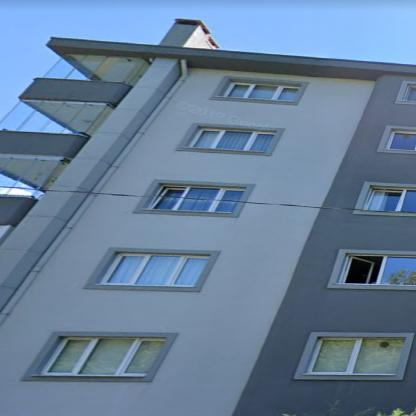window: (40, 339, 165, 376), (0, 101, 113, 134), (308, 338, 405, 375), (42, 52, 152, 84), (100, 254, 210, 286), (1, 158, 68, 198), (338, 254, 416, 285), (150, 186, 244, 211), (190, 128, 273, 150), (222, 82, 299, 100), (363, 187, 415, 212), (390, 132, 415, 150), (404, 86, 416, 100)
